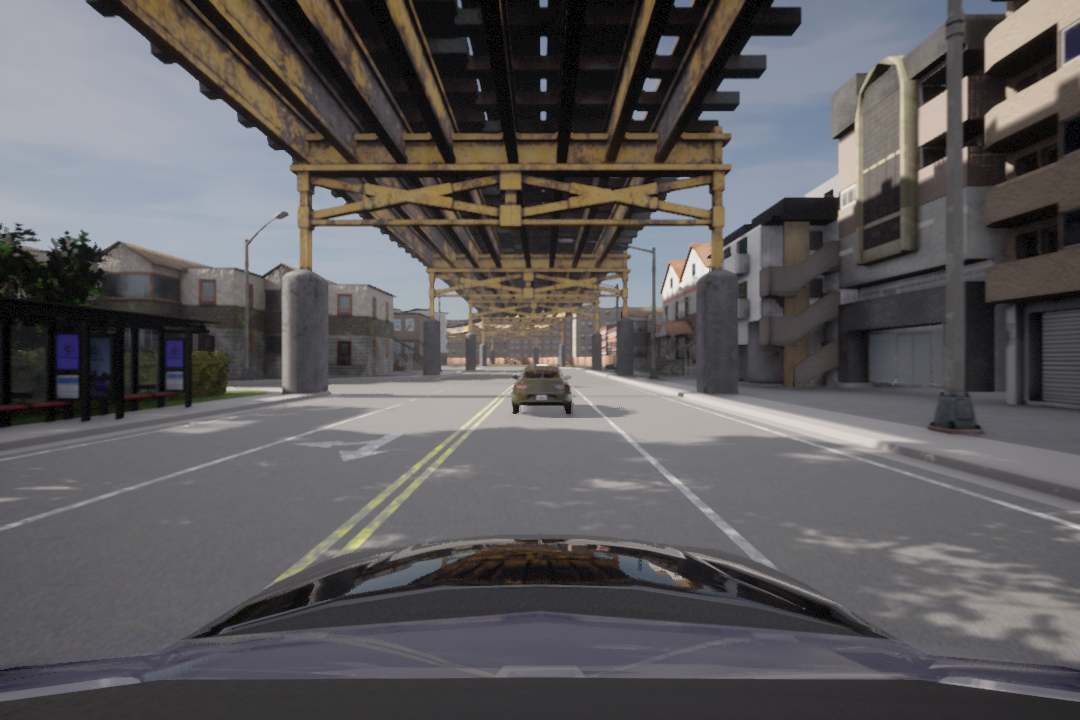RoadSign_forward_left: (291, 430, 402, 464)
